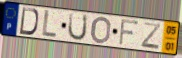D: (18, 7, 39, 37)
F: (118, 18, 141, 47)
L: (41, 9, 58, 40)
O: (90, 16, 113, 45)
U: (67, 12, 89, 42)
Z: (140, 21, 162, 51)
